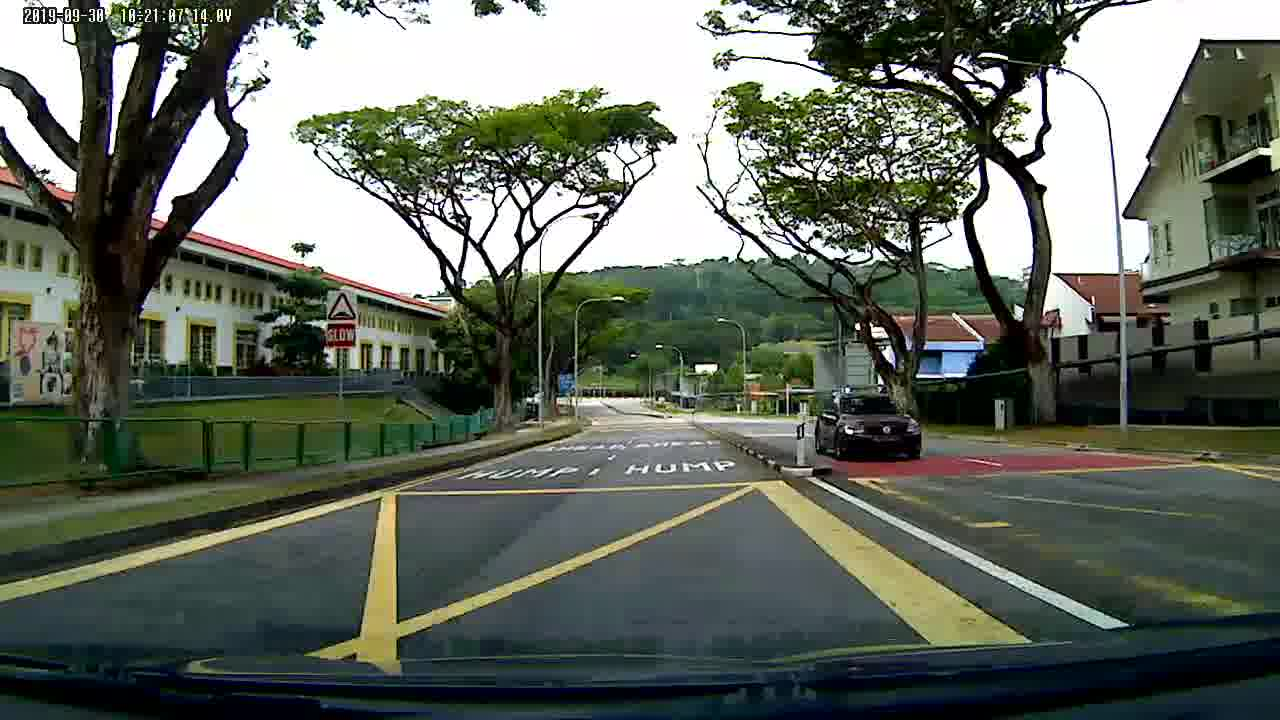car: (814, 388, 925, 460)
